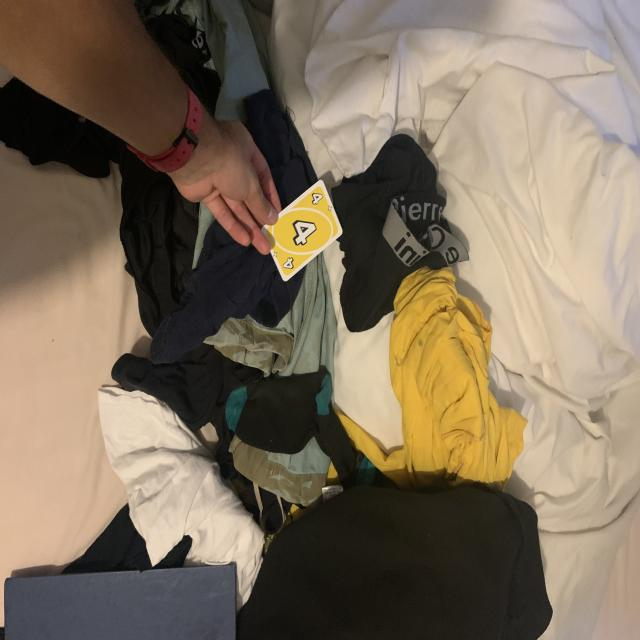lyellow-4: (306, 186, 328, 213)
